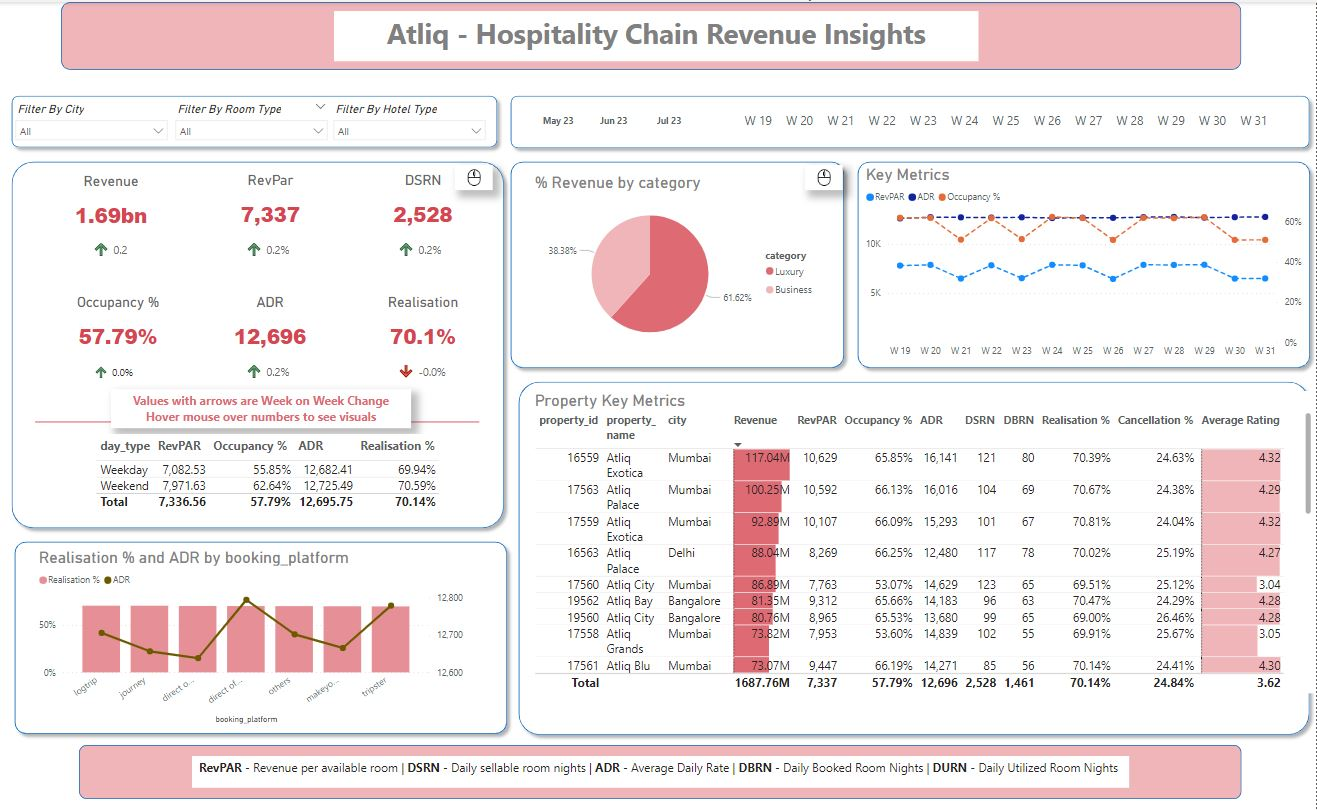

What the dashboard file says about the page in this screenshot:
{"tool":"powerbi","page":{"name":"Homepage","canvas":[1800,1100],"ordinal":0},"visuals":[{"type":"shape","box":[25.7,206.8,683.8,513.5],"z":0},{"type":"shape","box":[712,504,1088,496],"z":1000},{"type":"shape","box":[1170.3,206.8,629.7,297.3],"z":2000},{"type":"shape","box":[701.4,206.8,468.9,297.3],"z":3000},{"type":"shape","box":[701.4,117.6,1099,89],"z":4000},{"type":"shape","box":[25.7,117.1,675,88],"z":5000},{"type":"tableEx","title":"Property Key Metrics","fields":{"Values":["dim_hotels.property_id","dim_hotels.property_name","dim_hotels.city","key_measures (2).Revenue","key_measures (2).RevPAR","key_measures (2).Occupancy %","key_measures (2).ADR","key_measures (2).DSRN","key_measures (2).DBRN","key_measures (2).Realisation %","key_measures (2).Cancellation %","key_measures (2).Average Rating"]},"box":[737.4,526.3,1060.8,408.6],"z":6000},{"type":"slicer","fields":{"Values":["dim_rooms.room_class"]},"box":[245.7,130,225.7,75.7],"z":7000},{"type":"slicer","fields":{"Values":["dim_hotels.city"]},"box":[30,130,225.7,75.7],"z":8000},{"type":"slicer","fields":{"Values":["dim_date.week no"]},"box":[991.9,135.1,774.3,48.6],"z":9000},{"type":"slicer","fields":{"Values":["dim_date.mmm yy"]},"box":[712.2,136.5,273,47.3],"z":10000},{"type":"tableEx","fields":{"Values":["key_measures (2).Revenue WoW change %"]},"box":[135.1,290.5,85.1,70.3],"z":11000},{"type":"pieChart","title":"% Revenue by category","fields":{"Category":["dim_hotels.category"],"Y":["key_measures (2).Revenue"]},"box":[737.8,231.1,395.9,248.6],"z":12000},{"type":"tableEx","fields":{"Values":["key_measures (2).Revpar WoW change %"]},"box":[341.9,290.5,85.1,70.3],"z":13000},{"type":"tableEx","fields":{"Values":["key_measures (2).ADR WoW change %"]},"box":[341.9,455.4,85.1,70.3],"z":14000},{"type":"tableEx","fields":{"Values":["key_measures (2).Realisation WoW change %"]},"box":[547.3,455.4,85.1,70.3],"z":15000},{"type":"tableEx","fields":{"Values":["key_measures (2).Occupancy WoW change %"]},"box":[136.5,458.1,93.2,64.9],"z":16000},{"type":"tableEx","fields":{"Values":["key_measures (2).Revpar WoW change %"]},"box":[547.3,290.5,85.1,70.3],"z":17000},{"type":"slicer","fields":{"Values":["dim_hotels.category"]},"box":[460,130,225.7,75.7],"z":18000},{"type":"lineChart","title":"Key Metrics","fields":{"Y":["key_measures (2).RevPAR","key_measures (2).ADR"],"Category":["dim_date.mmm yy.Variation.Date Hierarchy.Month","dim_date.week no"],"Y2":["key_measures (2).Occupancy %"]},"box":[1185.1,220.3,600,270.3],"z":19000},{"type":"card","title":"Revenue","fields":{"Values":["key_measures (2).Revenue"]},"box":[91.9,231.1,154.1,94.6],"z":20000},{"type":"card","title":"DSRN","fields":{"Values":["key_measures (2).DSRN"]},"box":[513.5,229.7,154.1,95.9],"z":21000},{"type":"card","title":"RevPar","fields":{"Values":["key_measures (2).RevPAR"]},"box":[306.8,229.7,155.4,95.9],"z":22000},{"type":"shape","box":[66.2,550,601.4,35.1],"z":23000},{"type":"textbox","box":[169.1,523.6,405.9,52.8],"z":24000},{"type":"tableEx","fields":{"Values":["dim_date.day_type","key_measures (2).RevPAR","key_measures (2).Occupancy %","key_measures (2).ADR","key_measures (2).Realisation %"]},"box":[143.2,585.1,479.7,110.8],"z":25000},{"type":"card","title":"Occupancy %","fields":{"Values":["key_measures (2).Occupancy %"]},"box":[101.4,394.6,154.1,95.9],"z":26000},{"type":"card","title":"ADR","fields":{"Values":["key_measures (2).ADR"]},"box":[306.8,394.6,154.1,95.9],"z":27000},{"type":"card","title":"Realisation","fields":{"Values":["key_measures (2).Realisation %"]},"box":[513.5,394.6,154.1,95.9],"z":28000},{"type":"shape","box":[29.7,721.6,683.8,278.4],"z":29000},{"type":"lineStackedColumnComboChart","fields":{"Category":["fact_bookings.booking_platform"],"Y":["key_measures (2).Realisation %"],"Y2":["key_measures (2).ADR"]},"box":[66.2,739.2,583.8,243.2],"z":30000},{"type":"shape","box":[125.7,1005.4,1573,73],"z":31000},{"type":"textbox","box":[278.4,1020.3,1267.6,43.2],"z":32000},{"type":"shape","box":[101.3,0,1597.3,92],"z":33000},{"type":"textbox","box":[470.7,12,872,68],"z":34000},{"type":"image","box":[1108.1,220.5,51.4,33.8],"z":35000},{"type":"image","box":[634.6,220.5,51.4,33.8],"z":36000}]}

Visuals, with their boxes in screenshot pixels (x1, y1, x2, y2), scaled from the page's 1800x1100 canvas onto the 1317x810 screenshot:
shape: BBox(19, 152, 519, 530)
shape: BBox(521, 371, 1316, 736)
shape: BBox(856, 152, 1316, 371)
shape: BBox(513, 152, 856, 371)
shape: BBox(513, 87, 1316, 152)
shape: BBox(19, 86, 513, 151)
"Property Key Metrics" tableEx: BBox(540, 388, 1316, 688)
slicer - dim_rooms.room_class: BBox(180, 96, 345, 151)
slicer - dim_hotels.city: BBox(22, 96, 187, 151)
slicer - dim_date.week no: BBox(726, 99, 1292, 135)
slicer - dim_date.mmm yy: BBox(521, 101, 721, 135)
tableEx - key_measures (2).Revenue WoW change %: BBox(99, 214, 161, 266)
"% Revenue by category" pieChart: BBox(540, 170, 829, 353)
tableEx - key_measures (2).Revpar WoW change %: BBox(250, 214, 312, 266)
tableEx - key_measures (2).ADR WoW change %: BBox(250, 335, 312, 387)
tableEx - key_measures (2).Realisation WoW change %: BBox(400, 335, 463, 387)
tableEx - key_measures (2).Occupancy WoW change %: BBox(100, 337, 168, 385)
tableEx - key_measures (2).Revpar WoW change %: BBox(400, 214, 463, 266)
slicer - dim_hotels.category: BBox(337, 96, 502, 151)
"Key Metrics" lineChart: BBox(867, 162, 1306, 361)
"Revenue" card: BBox(67, 170, 180, 240)
"DSRN" card: BBox(376, 169, 488, 240)
"RevPar" card: BBox(224, 169, 338, 240)
shape: BBox(48, 405, 488, 431)
textbox: BBox(124, 386, 421, 424)
tableEx - dim_date.day_type x key_measures (2).RevPAR: BBox(105, 431, 456, 512)
"Occupancy %" card: BBox(74, 291, 187, 361)
"ADR" card: BBox(224, 291, 337, 361)
"Realisation" card: BBox(376, 291, 488, 361)
shape: BBox(22, 531, 522, 736)
lineStackedColumnComboChart - fact_bookings.booking_platform x key_measures (2).Realisation %: BBox(48, 544, 476, 723)
shape: BBox(92, 740, 1243, 794)
textbox: BBox(204, 751, 1131, 783)
shape: BBox(74, 0, 1243, 68)
textbox: BBox(344, 9, 982, 59)
image: BBox(811, 162, 848, 187)
image: BBox(464, 162, 502, 187)
